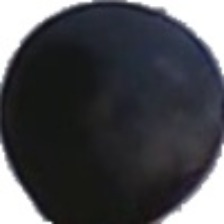grapes: (12, 18, 182, 163)
